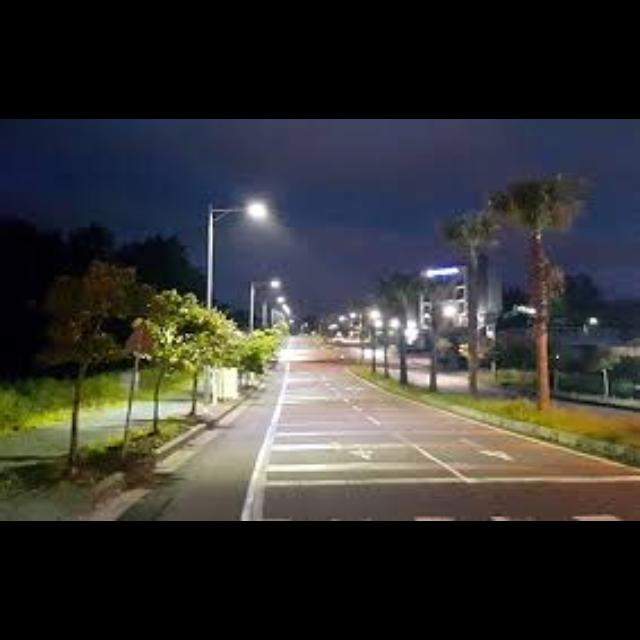Street-Lamp: (200, 180, 272, 304)
